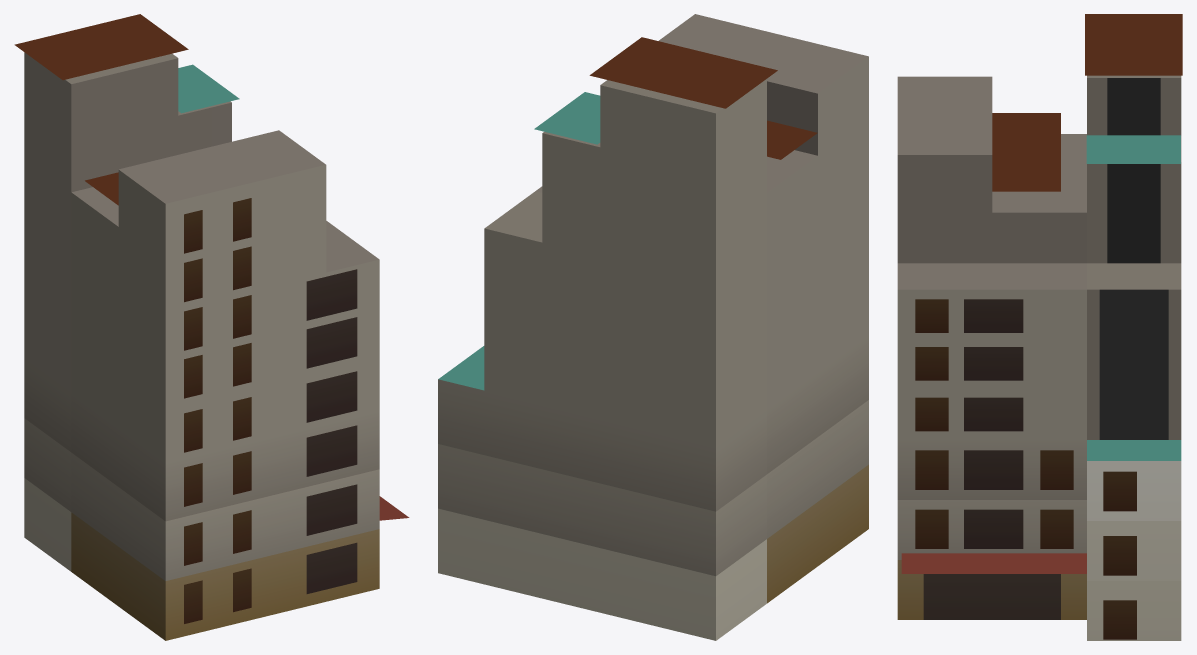
Rendered from SM_City_Building_09.fbx.
The picture shows the model from 3 angles, left to right: view 1: azimuth 30°, elevation 25°; view 2: azimuth 150°, elevation 25°; view 3: azimuth 270°, elevation 25°; orthographic projection. The views are drawn at different scales.
Parts seen in each view (by area): view 1: SM_City_Building_09; view 2: SM_City_Building_09; view 3: SM_City_Building_09.
Part boxes in pixels (x1=…): SM_City_Building_09: x1=14, y1=14, x2=409, y2=640; SM_City_Building_09: x1=438, y1=14, x2=868, y2=640; SM_City_Building_09: x1=897, y1=14, x2=1182, y2=640.
Bounding box in the file's own units: 3.28 × 5.8 × 3.02.
